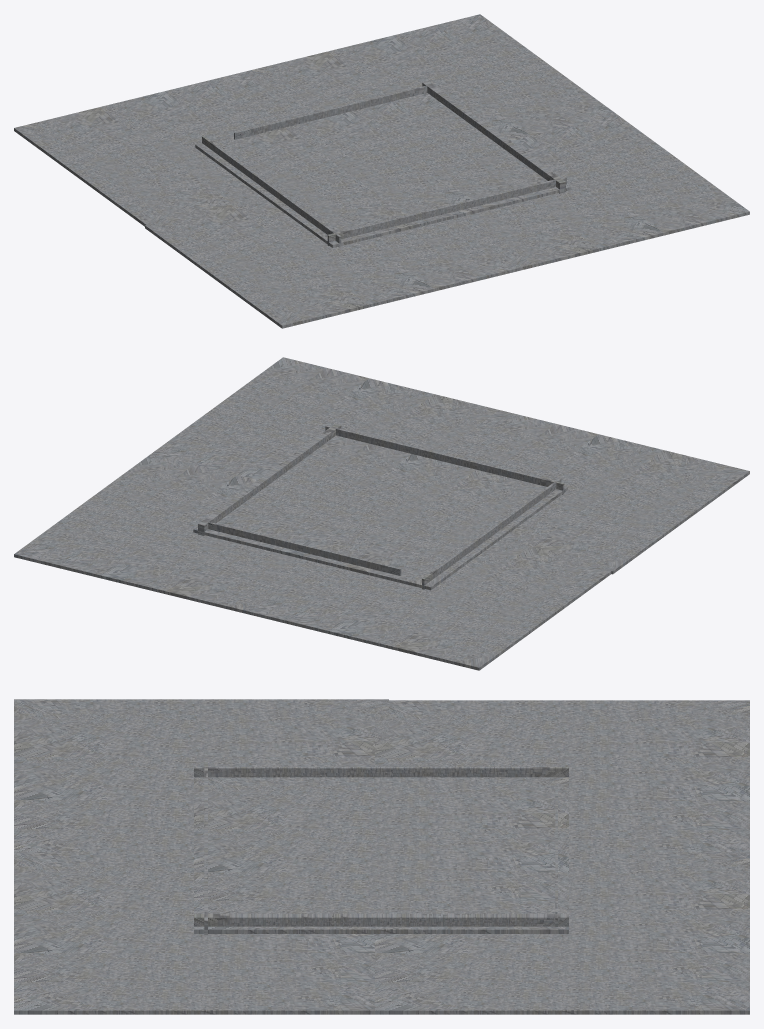
The model's file is evilcityBase.glb.
3 renders of one model, top to bottom at view 1: azimuth 30°, elevation 25°; view 2: azimuth 150°, elevation 25°; view 3: azimuth 270°, elevation 25°, orthographic. The views are drawn at different scales.
Visible parts, largest first — view 1: chinaCityGround, chinaCityGround.004, chinaCityGround.003, chinaCityGround.001, chinaCityGround.002, citywall.001, citywall.003, citywall.004, citywall.002; view 2: chinaCityGround, chinaCityGround.001, chinaCityGround.002, chinaCityGround.004, chinaCityGround.003, citywall.001, citywall.003, citywall.004, citywall.002; view 3: chinaCityGround, chinaCityGround.002, chinaCityGround.003, chinaCityGround.001, chinaCityGround.004, citywall.003, citywall.002, citywall.001.
Boxes of the visible parts, x1=… form: chinaCityGround: x1=195, y1=93, x2=570, y2=247; chinaCityGround.004: x1=145, y1=196, x2=511, y2=328; chinaCityGround.003: x1=446, y1=111, x2=749, y2=272; chinaCityGround.001: x1=14, y1=70, x2=310, y2=227; chinaCityGround.002: x1=247, y1=14, x2=616, y2=140; citywall.001: x1=327, y1=177, x2=566, y2=246; citywall.003: x1=422, y1=81, x2=565, y2=193; citywall.004: x1=234, y1=84, x2=433, y2=139; citywall.002: x1=202, y1=136, x2=341, y2=247; chinaCityGround: x1=193, y1=435, x2=567, y2=590; chinaCityGround.001: x1=242, y1=539, x2=615, y2=670; chinaCityGround.002: x1=14, y1=455, x2=314, y2=614; chinaCityGround.004: x1=462, y1=413, x2=749, y2=574; chinaCityGround.003: x1=146, y1=357, x2=519, y2=479; citywall.001: x1=325, y1=425, x2=564, y2=494; citywall.003: x1=198, y1=423, x2=341, y2=535; citywall.004: x1=202, y1=520, x2=401, y2=575; citywall.002: x1=422, y1=478, x2=561, y2=589; chinaCityGround: x1=194, y1=777, x2=568, y2=933; chinaCityGround.002: x1=375, y1=852, x2=749, y2=1014; chinaCityGround.003: x1=14, y1=852, x2=388, y2=1014; chinaCityGround.001: x1=375, y1=700, x2=749, y2=858; chinaCityGround.004: x1=14, y1=699, x2=388, y2=852; citywall.003: x1=194, y1=913, x2=568, y2=926; citywall.002: x1=194, y1=767, x2=568, y2=777; citywall.001: x1=204, y1=762, x2=207, y2=934.
Bounding box in the file's own units: 2657 × 269 × 2653.
Materials: 1 (1 with a texture image).
